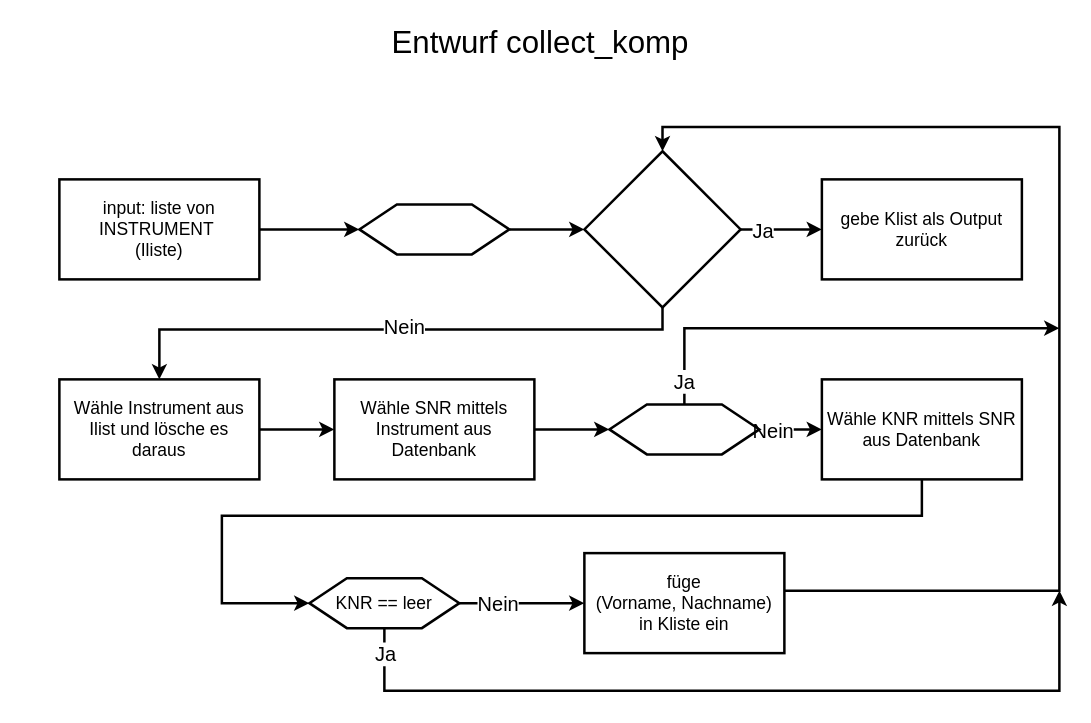
Image size: 1091x723. Some labels were removed from this diagram. Each missing label, with the centre of its shape:
"Iliste == leer" goes at pixel 661 228.
"Kliste = leer" goes at pixel 434 228.
"SNR == leer" goes at pixel 684 428.
